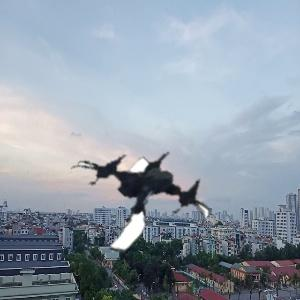drone: (72, 126, 212, 266)
